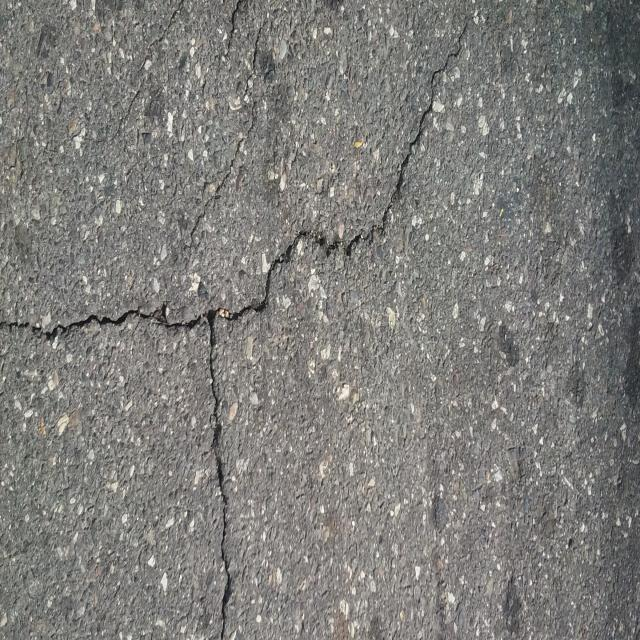Crack: (0, 20, 470, 640), (189, 99, 257, 249), (123, 0, 186, 134), (243, 0, 278, 101), (226, 0, 244, 55)
